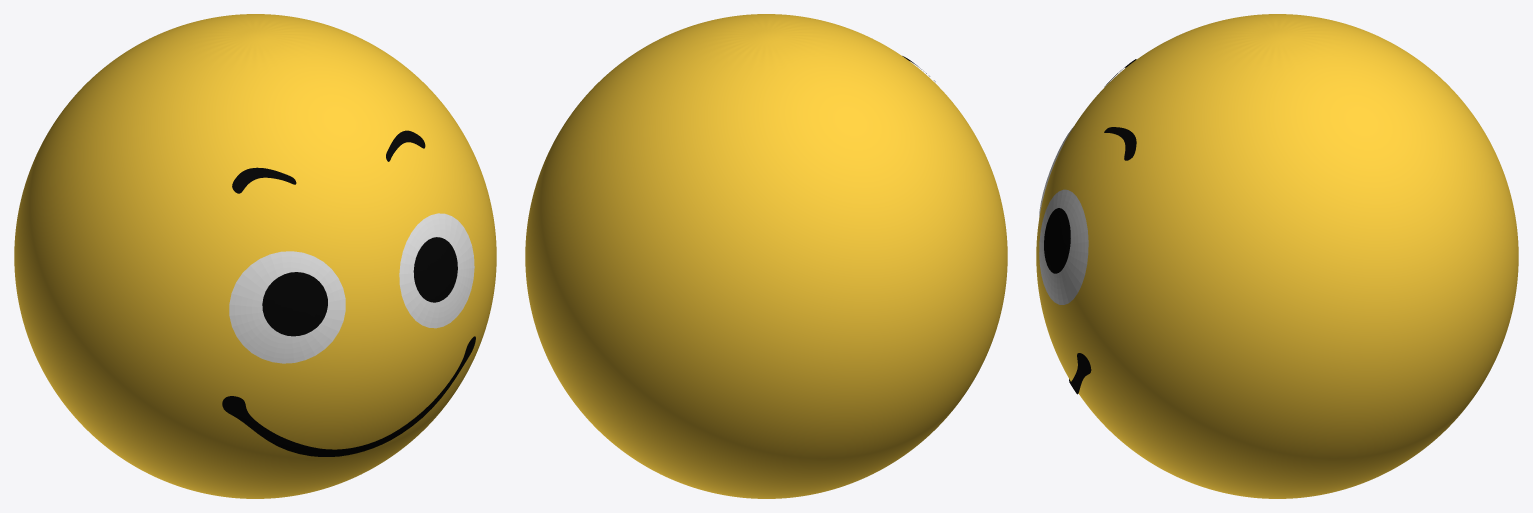
The model's file is smile_kirakira_v150.glb.
3 views of the same model, side by side, from view 1: azimuth 30°, elevation 25°; view 2: azimuth 150°, elevation 25°; view 3: azimuth 270°, elevation 25° (orthographic).
Visible parts, largest first — view 1: body, eye, eyeball, mouse, eyebrows; view 2: body; view 3: body, eye, eyeball.
Part boxes in pixels (<box>): body: <box>14,14,496,498</box>; eye: <box>229,213,474,363</box>; eyeball: <box>262,237,457,336</box>; mouse: <box>222,336,475,456</box>; eyebrows: <box>232,130,425,193</box>; body: <box>525,14,1007,498</box>; body: <box>1036,14,1518,498</box>; eye: <box>1039,126,1088,304</box>; eyeball: <box>1044,208,1070,273</box>.
Bounding box in the file's own units: 1.97 × 2 × 1.97.
